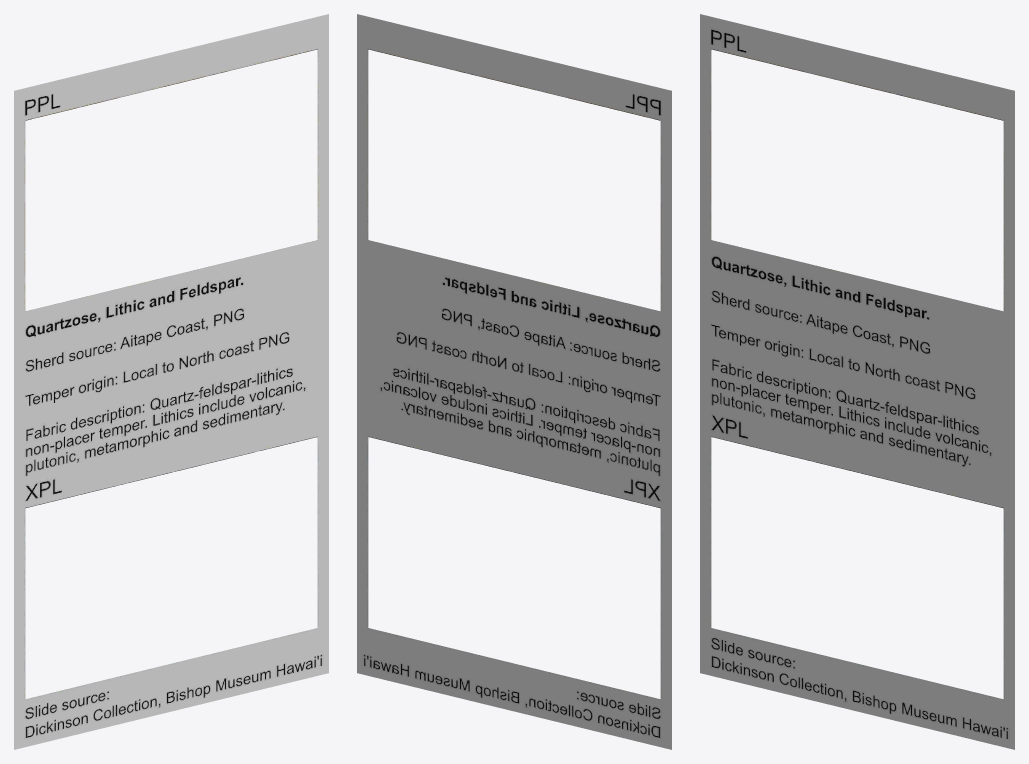
Rendered from wd_28_4_frame.glb.
The picture shows the model from 3 angles, left to right: view 1: azimuth 30°, elevation 25°; view 2: azimuth 150°, elevation 25°; view 3: azimuth 330°, elevation 25°; orthographic projection.
Visible parts, largest first — view 1: WD_28_4; view 2: WD_28_4; view 3: WD_28_4.
Boxes of the visible parts, x1,y1,x2,y2 form: WD_28_4: [14, 14, 328, 749]; WD_28_4: [357, 14, 671, 749]; WD_28_4: [700, 14, 1014, 749].
Bounding box in the file's own units: 0.5 × 1 × 4.37e-08.
1 material, 1 textured.
